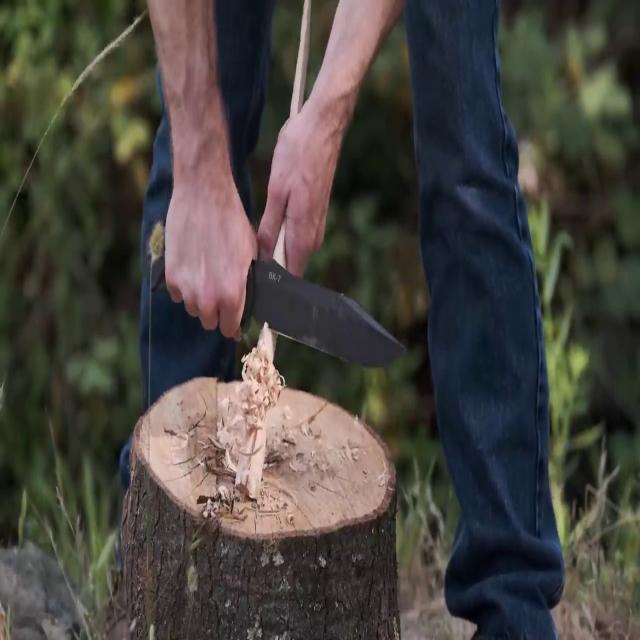Knife: (135, 208, 410, 391)
